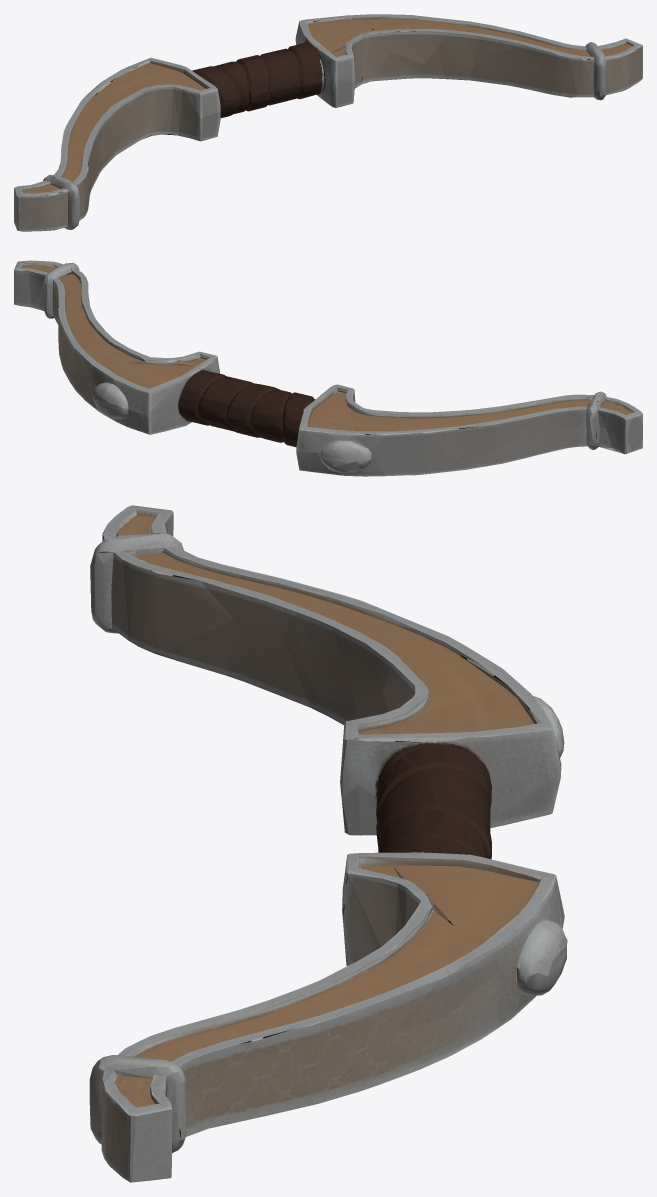
Rendered from bow_g1.fbx.
3 renders of one model, top to bottom at view 1: azimuth 30°, elevation 25°; view 2: azimuth 150°, elevation 25°; view 3: azimuth 270°, elevation 25°, orthographic. The views are drawn at different scales.
Visible parts, largest first — view 1: bow_g1; view 2: bow_g1; view 3: bow_g1.
Boxes of the visible parts, x1,y1,x2,y2 form: bow_g1: (14,14,642,231); bow_g1: (14,260,642,476); bow_g1: (89,505,567,1182).
Bounding box in the file's own units: 574 × 42.98 × 190.
1 material, 1 textured.
